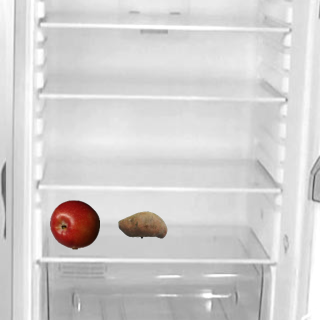Apple Braeburn: (49, 199, 99, 249)
Potato Sweet: (117, 199, 167, 249)
